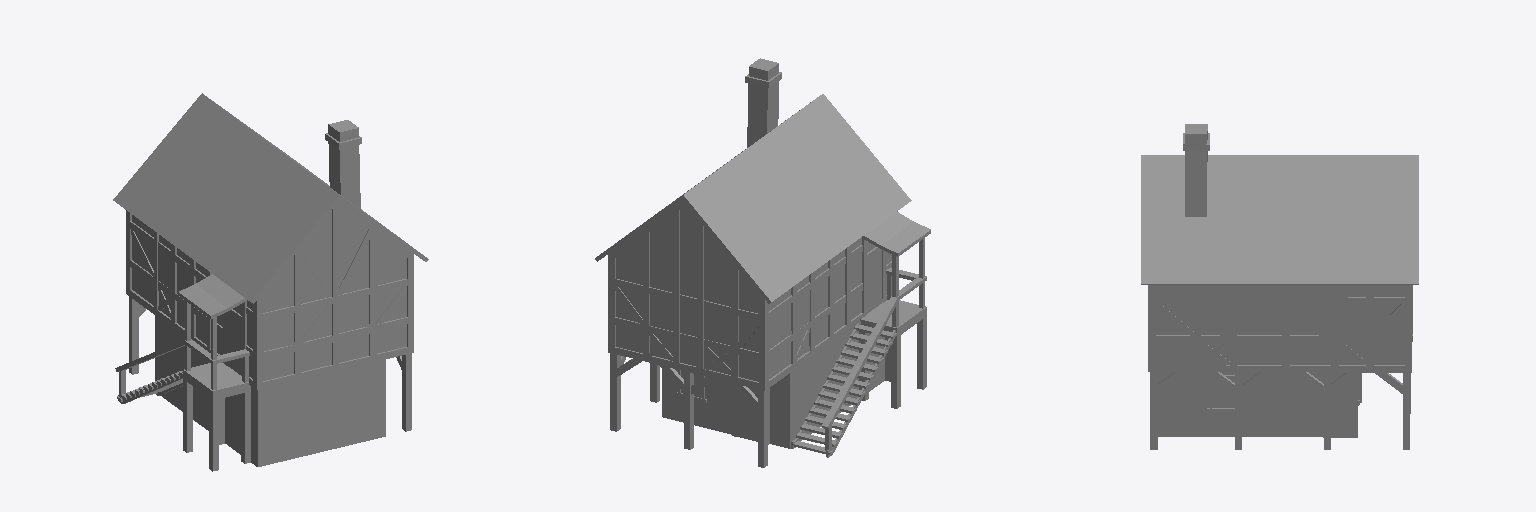
Rendered from house.obj.
The picture shows the model from 3 angles: view 1: azimuth 30°, elevation 25°; view 2: azimuth 150°, elevation 25°; view 3: azimuth 270°, elevation 25°; orthographic projection.
Parts seen in each view (by area): view 1: Cube.014_Cube.674; view 2: Cube.014_Cube.674; view 3: Cube.014_Cube.674.
Part boxes in pixels (x1,y1,x2,y2): Cube.014_Cube.674: (113,93,428,471); Cube.014_Cube.674: (595,58,930,467); Cube.014_Cube.674: (1141,124,1418,449).
Size of the model in its own units: 6.2 by 8.49 by 7.18.